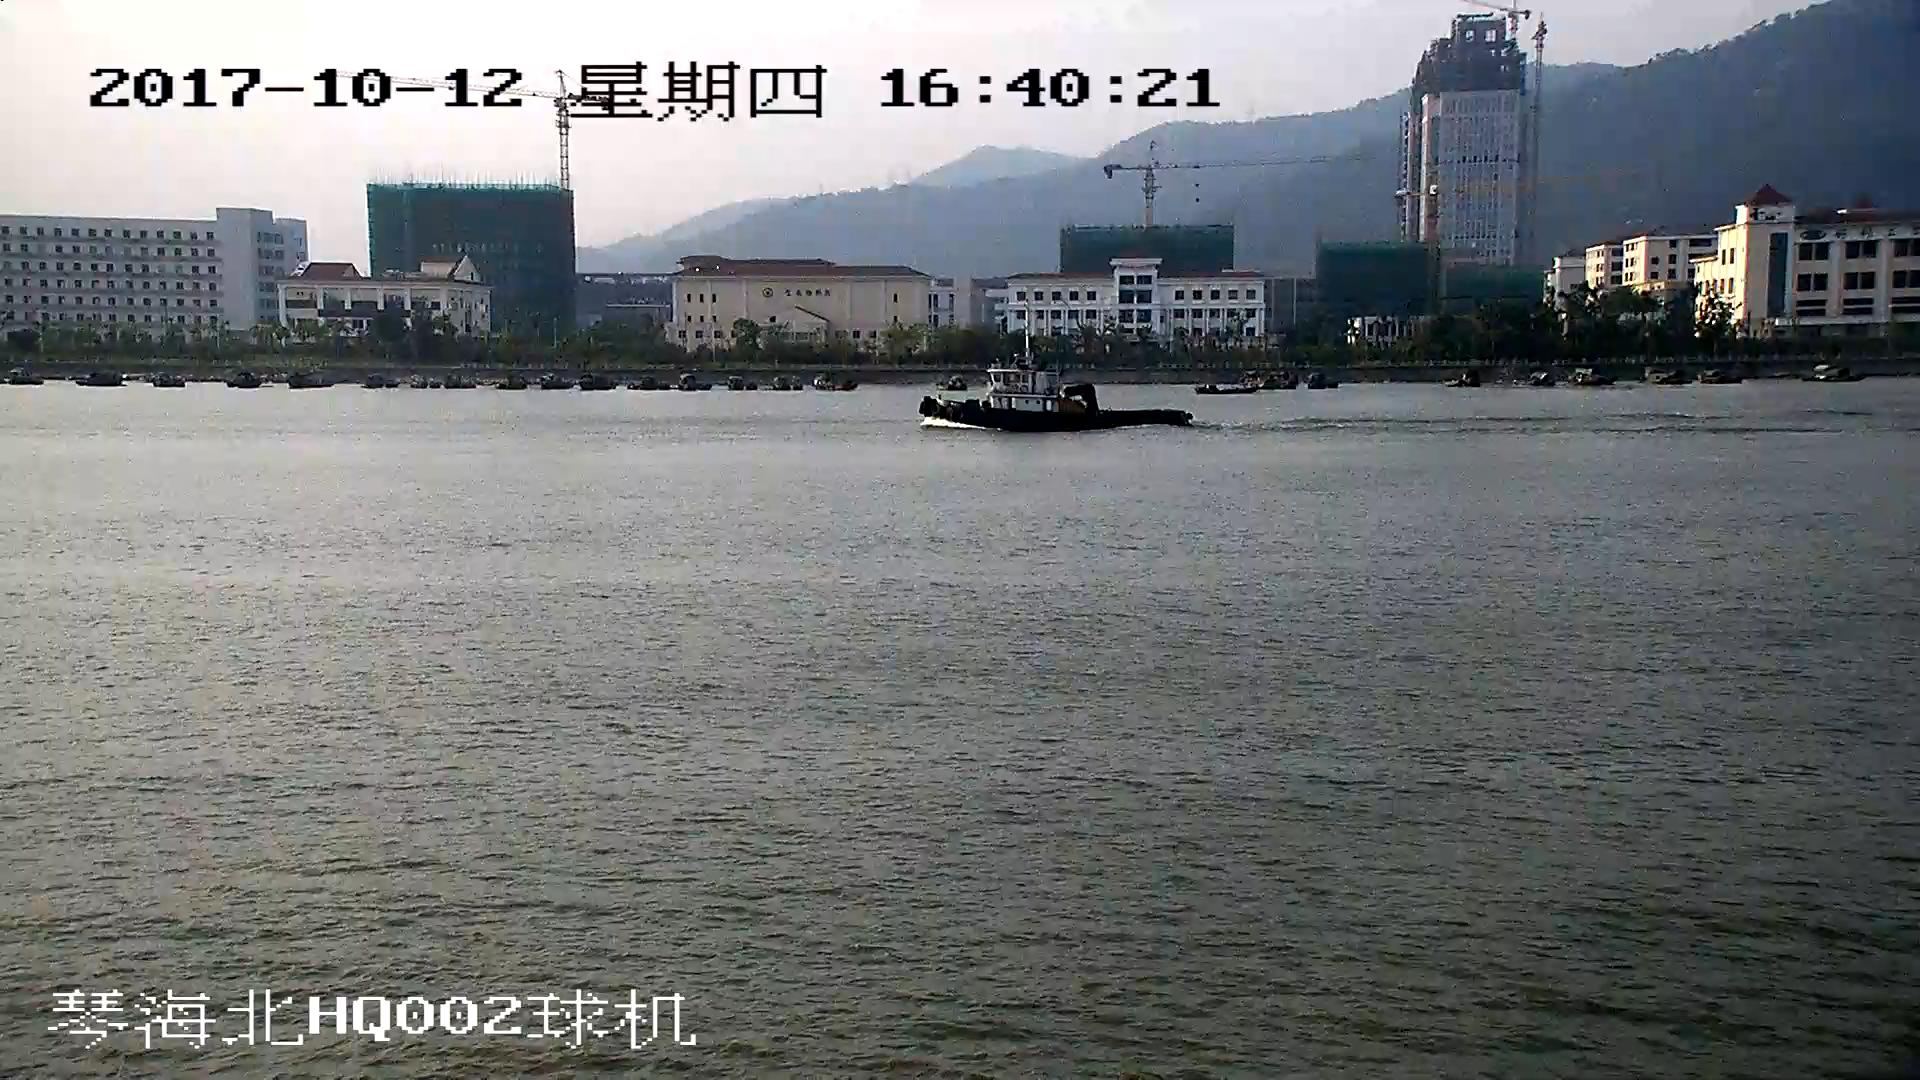passenger ship: (918, 297, 1188, 435)
